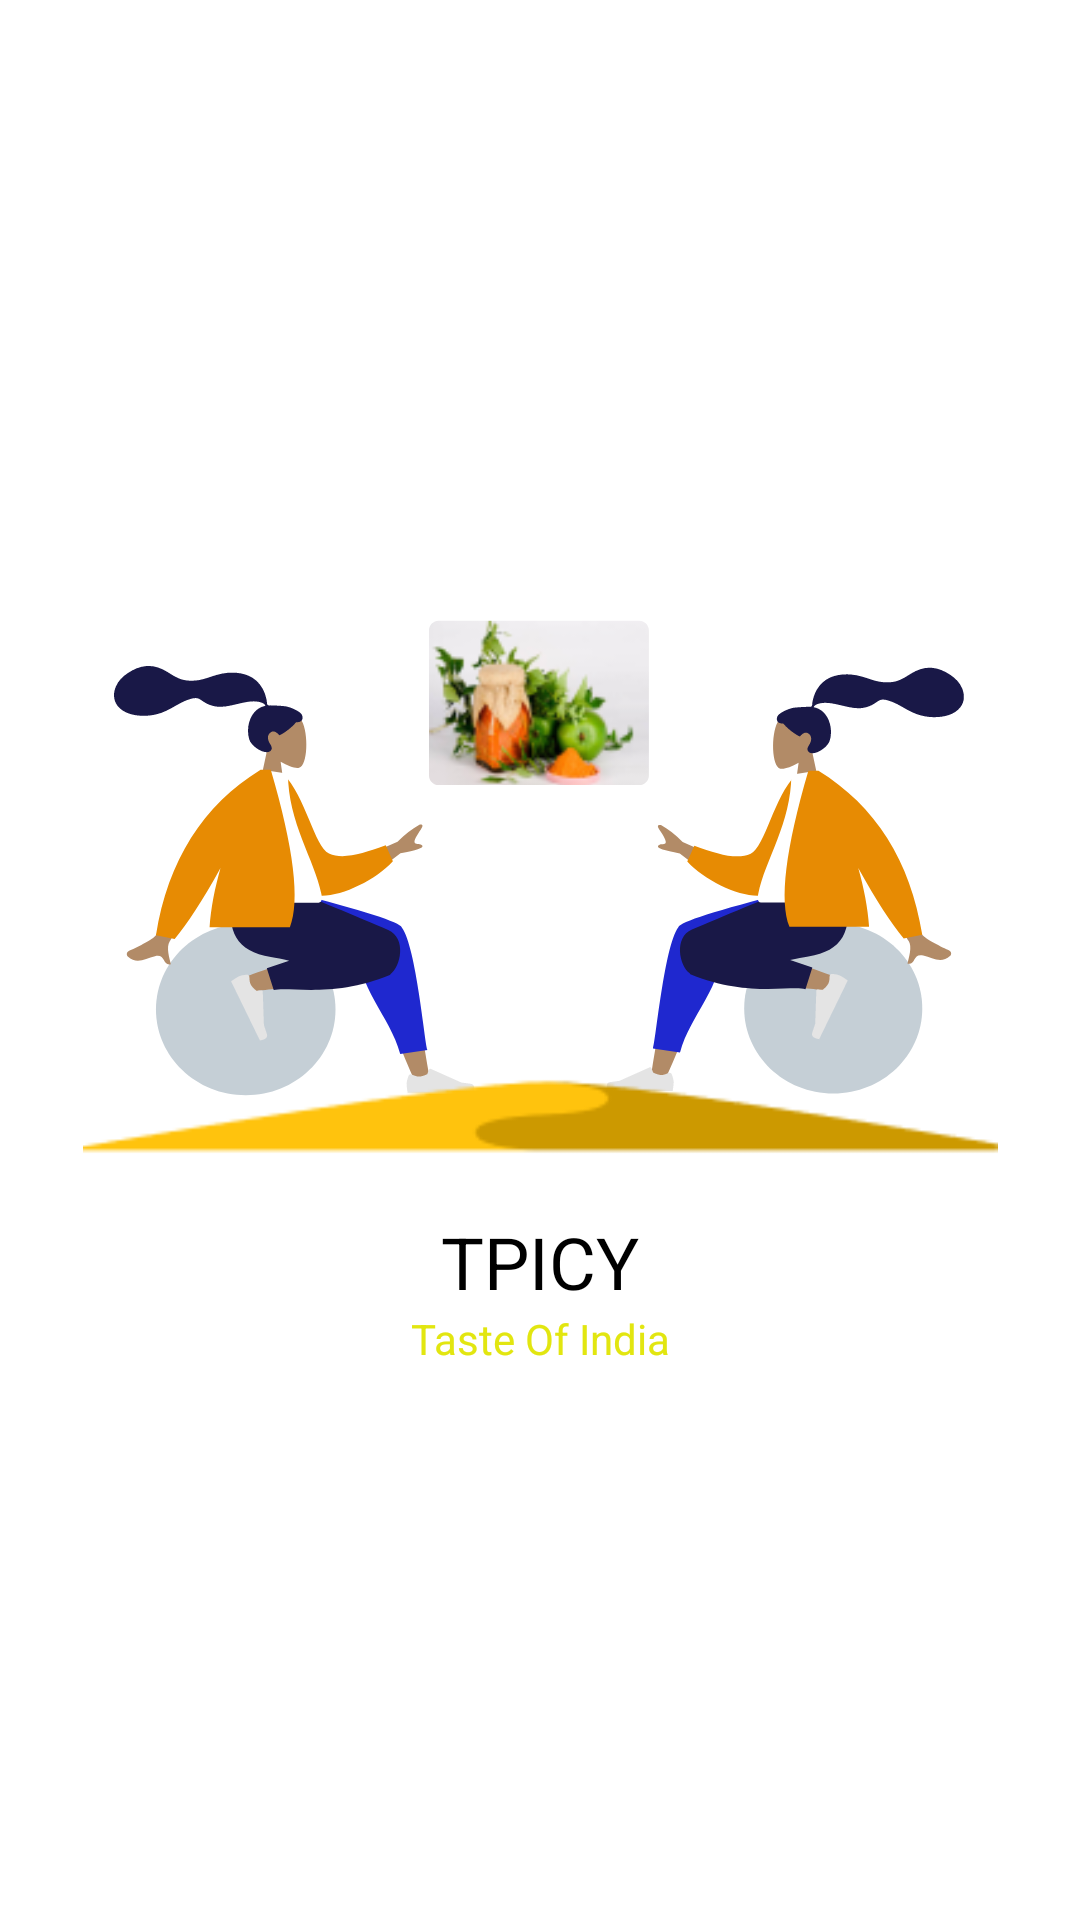

Icon click points for this 1080 × 1920 phone screenshot, format [x,y]:
picklee: [539,702]
